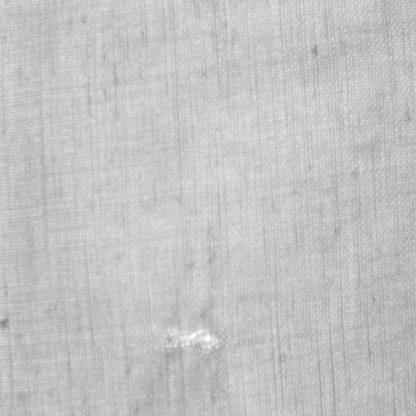hole: (163, 322, 230, 360)
